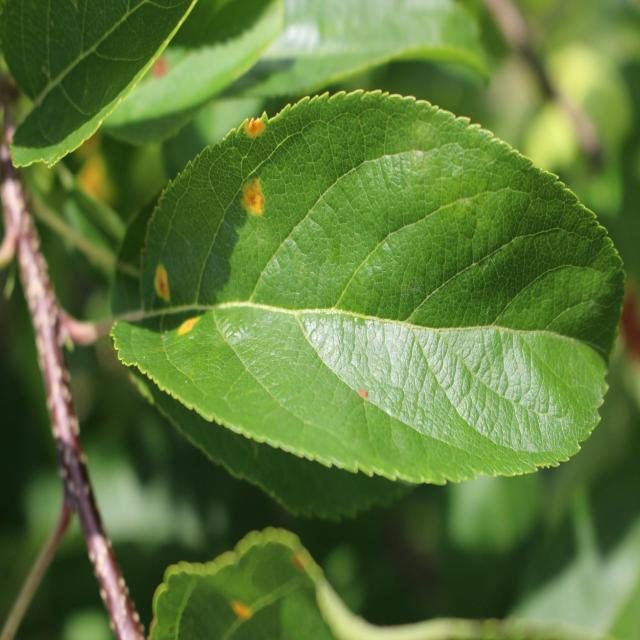Rust: (233, 92, 271, 146), (142, 265, 176, 309), (175, 306, 214, 344), (237, 174, 267, 222)
